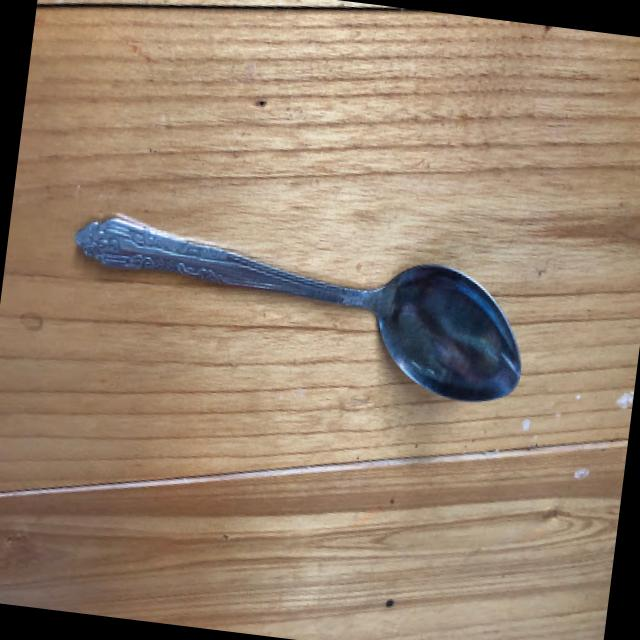spoon: (36, 159, 561, 434)
